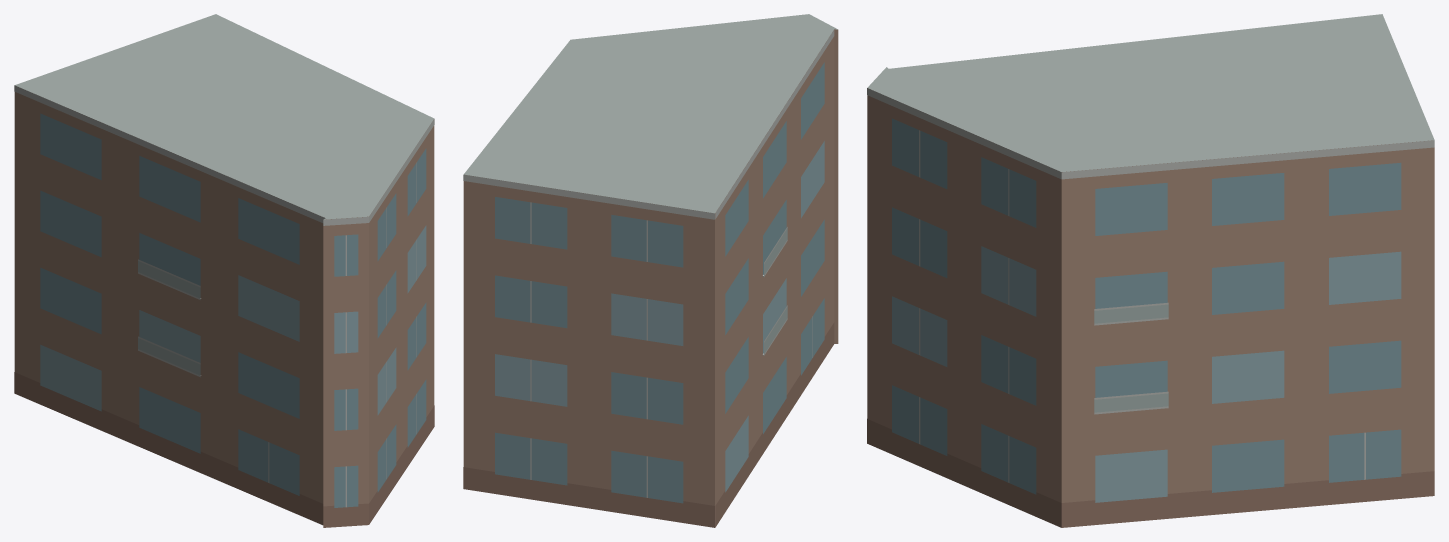
Rendered from survey-upis-32746271.glb.
3 renders of one model, left to right at view 1: azimuth 30°, elevation 25°; view 2: azimuth 150°, elevation 25°; view 3: azimuth 270°, elevation 25°, orthographic. The views are drawn at different scales.
Parts seen in each view (by area): view 1: survey-upis-32746271.tmp; view 2: survey-upis-32746271.tmp; view 3: survey-upis-32746271.tmp.
Boxes of the visible parts, <box> form: survey-upis-32746271.tmp: <box>14,14,434,527</box>; survey-upis-32746271.tmp: <box>463,14,838,527</box>; survey-upis-32746271.tmp: <box>867,14,1434,527</box>.
Bounding box in the file's own units: 11.36 × 11.9 × 17.22.
